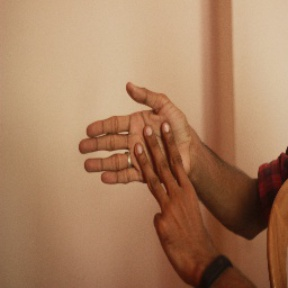M: (72, 80, 206, 223)
